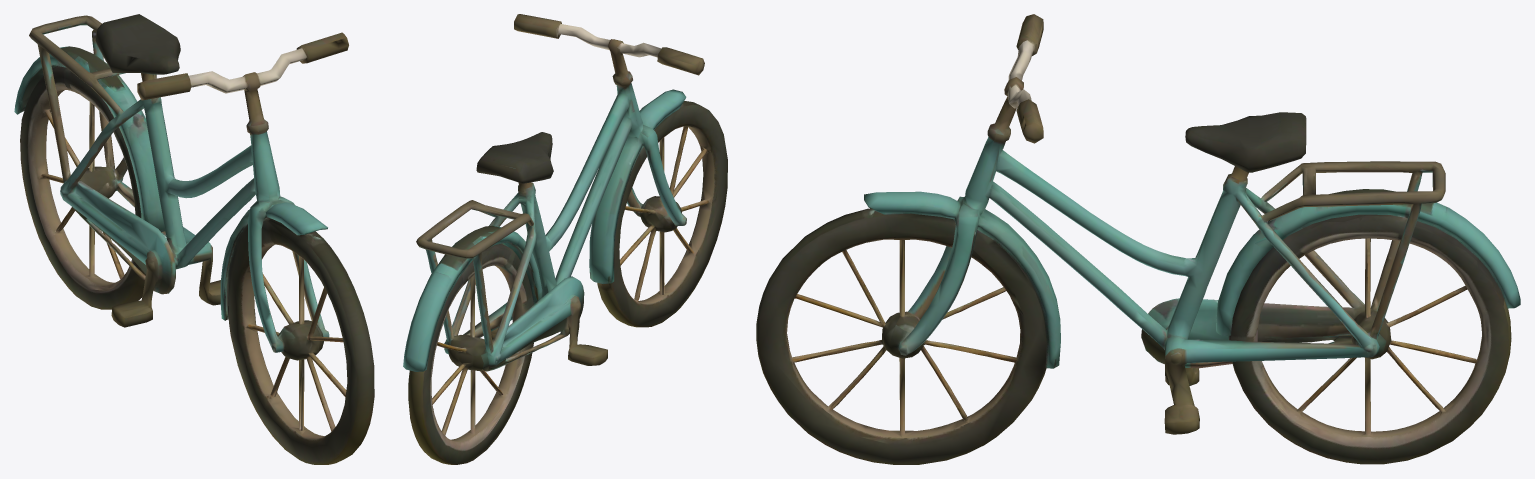
The model's file is bike.glb.
3 renders of one model, left to right at view 1: azimuth 30°, elevation 25°; view 2: azimuth 150°, elevation 25°; view 3: azimuth 270°, elevation 25°, orthographic. The views are drawn at different scales.
Visible parts, largest first — view 1: model_LOD4; view 2: model_LOD4; view 3: model_LOD4.
Boxes of the visible parts, x1=… form: model_LOD4: x1=14, y1=14, x2=374, y2=464; model_LOD4: x1=403, y1=14, x2=727, y2=464; model_LOD4: x1=756, y1=14, x2=1520, y2=464.
Size of the model in its own units: 0.6583 by 1.08 by 1.9.
Materials: 1 (1 with a texture image).
